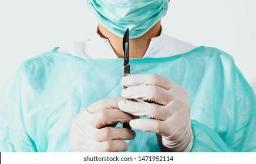scalpel: (123, 28, 131, 130)
